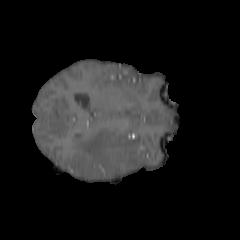glioma: (71, 128, 146, 179)
